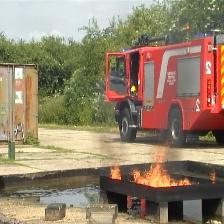fire: (109, 138, 210, 188)
